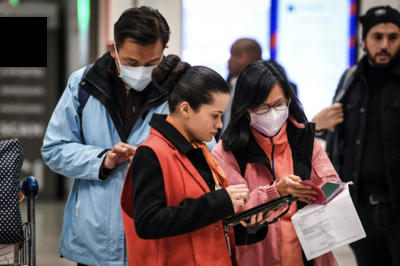with_mask: (249, 95, 291, 139), (118, 54, 161, 96)
without_mask: (192, 106, 229, 144), (364, 30, 400, 66)
